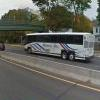Bus: (23, 28, 97, 63)
